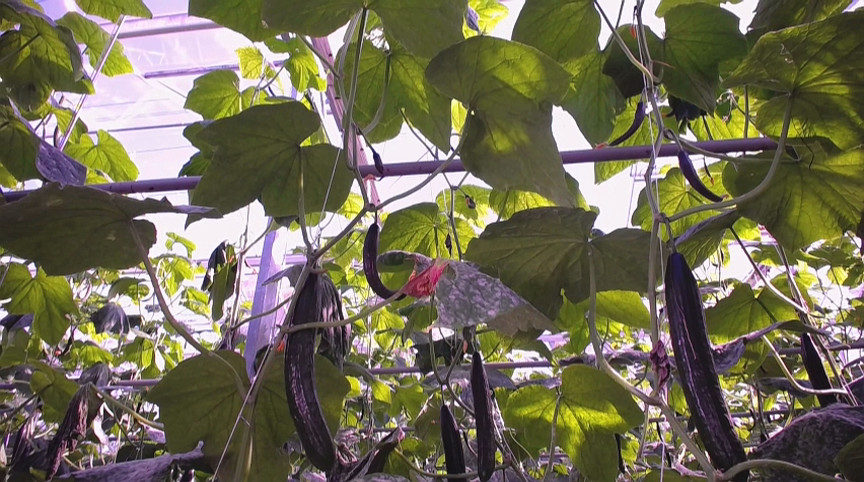cucumber: (663, 254, 749, 478), (285, 260, 338, 473), (470, 351, 496, 481), (360, 224, 404, 298), (800, 333, 838, 406), (441, 406, 468, 482)
